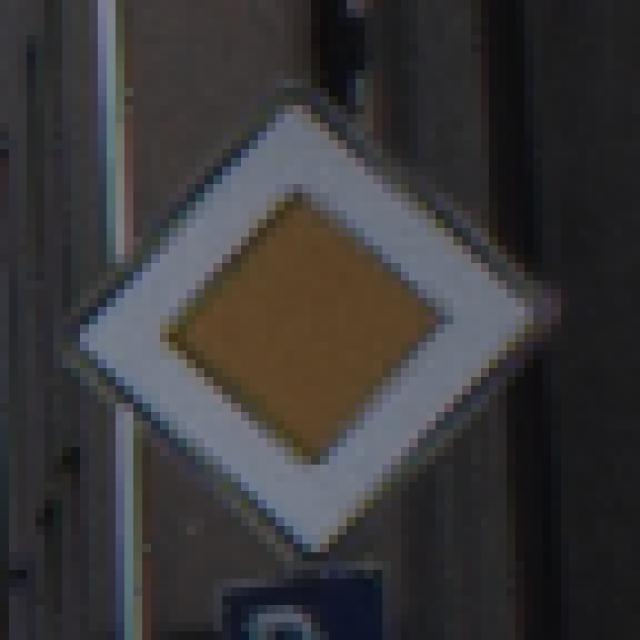Main Road: (54, 63, 588, 589)
